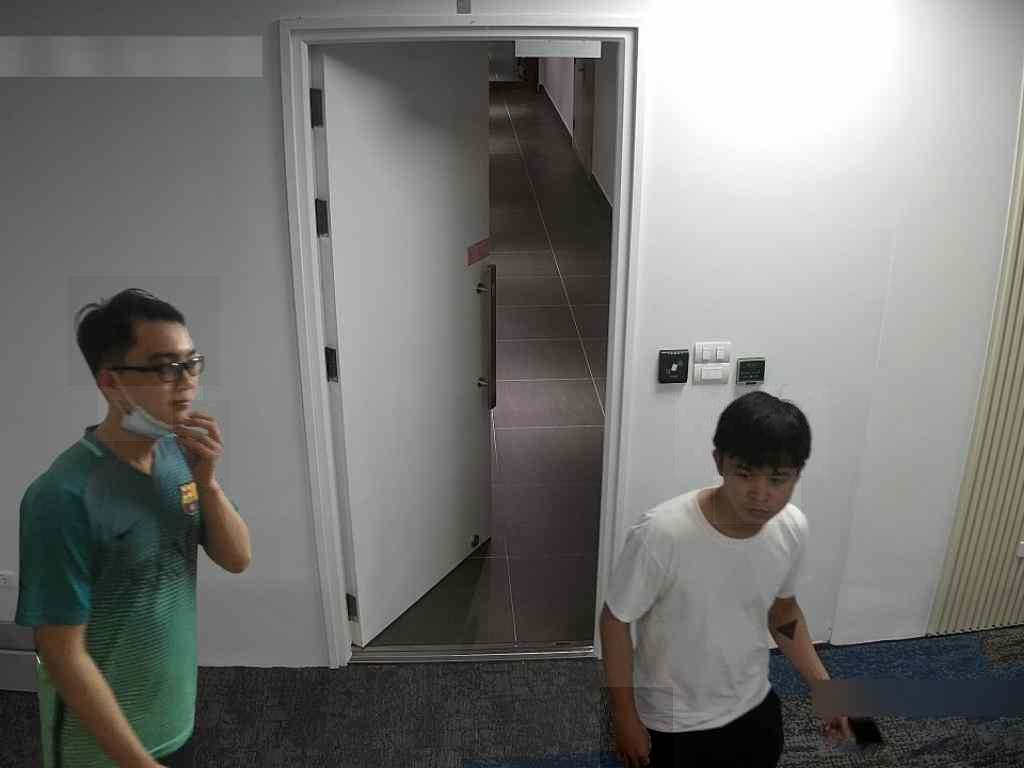no_apron: (600, 687, 673, 768), (174, 400, 230, 494)
no_gloves: (68, 276, 220, 386), (676, 386, 829, 476)
no_hairnet: (98, 310, 203, 441), (713, 428, 801, 524)
